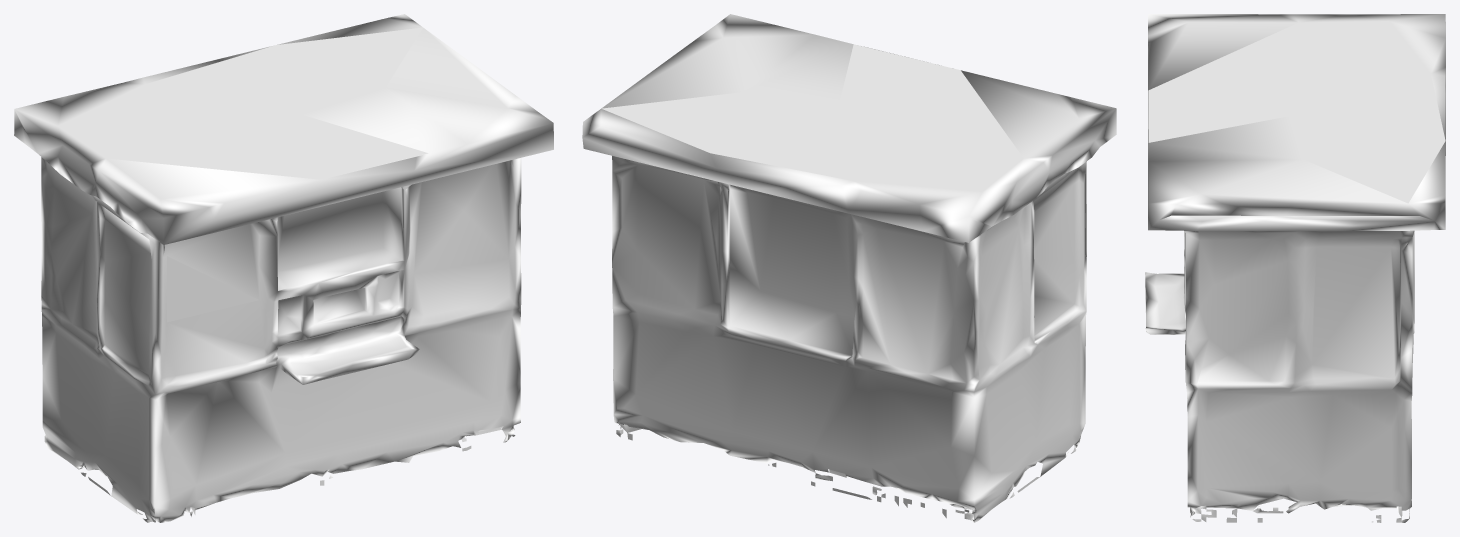
3 renders of one model, left to right at view 1: azimuth 30°, elevation 25°; view 2: azimuth 150°, elevation 25°; view 3: azimuth 270°, elevation 25°, orthographic.
Size of the model in its own units: 3.42 by 2.75 by 2.29.
Materials: 1 (1 with a texture image).
